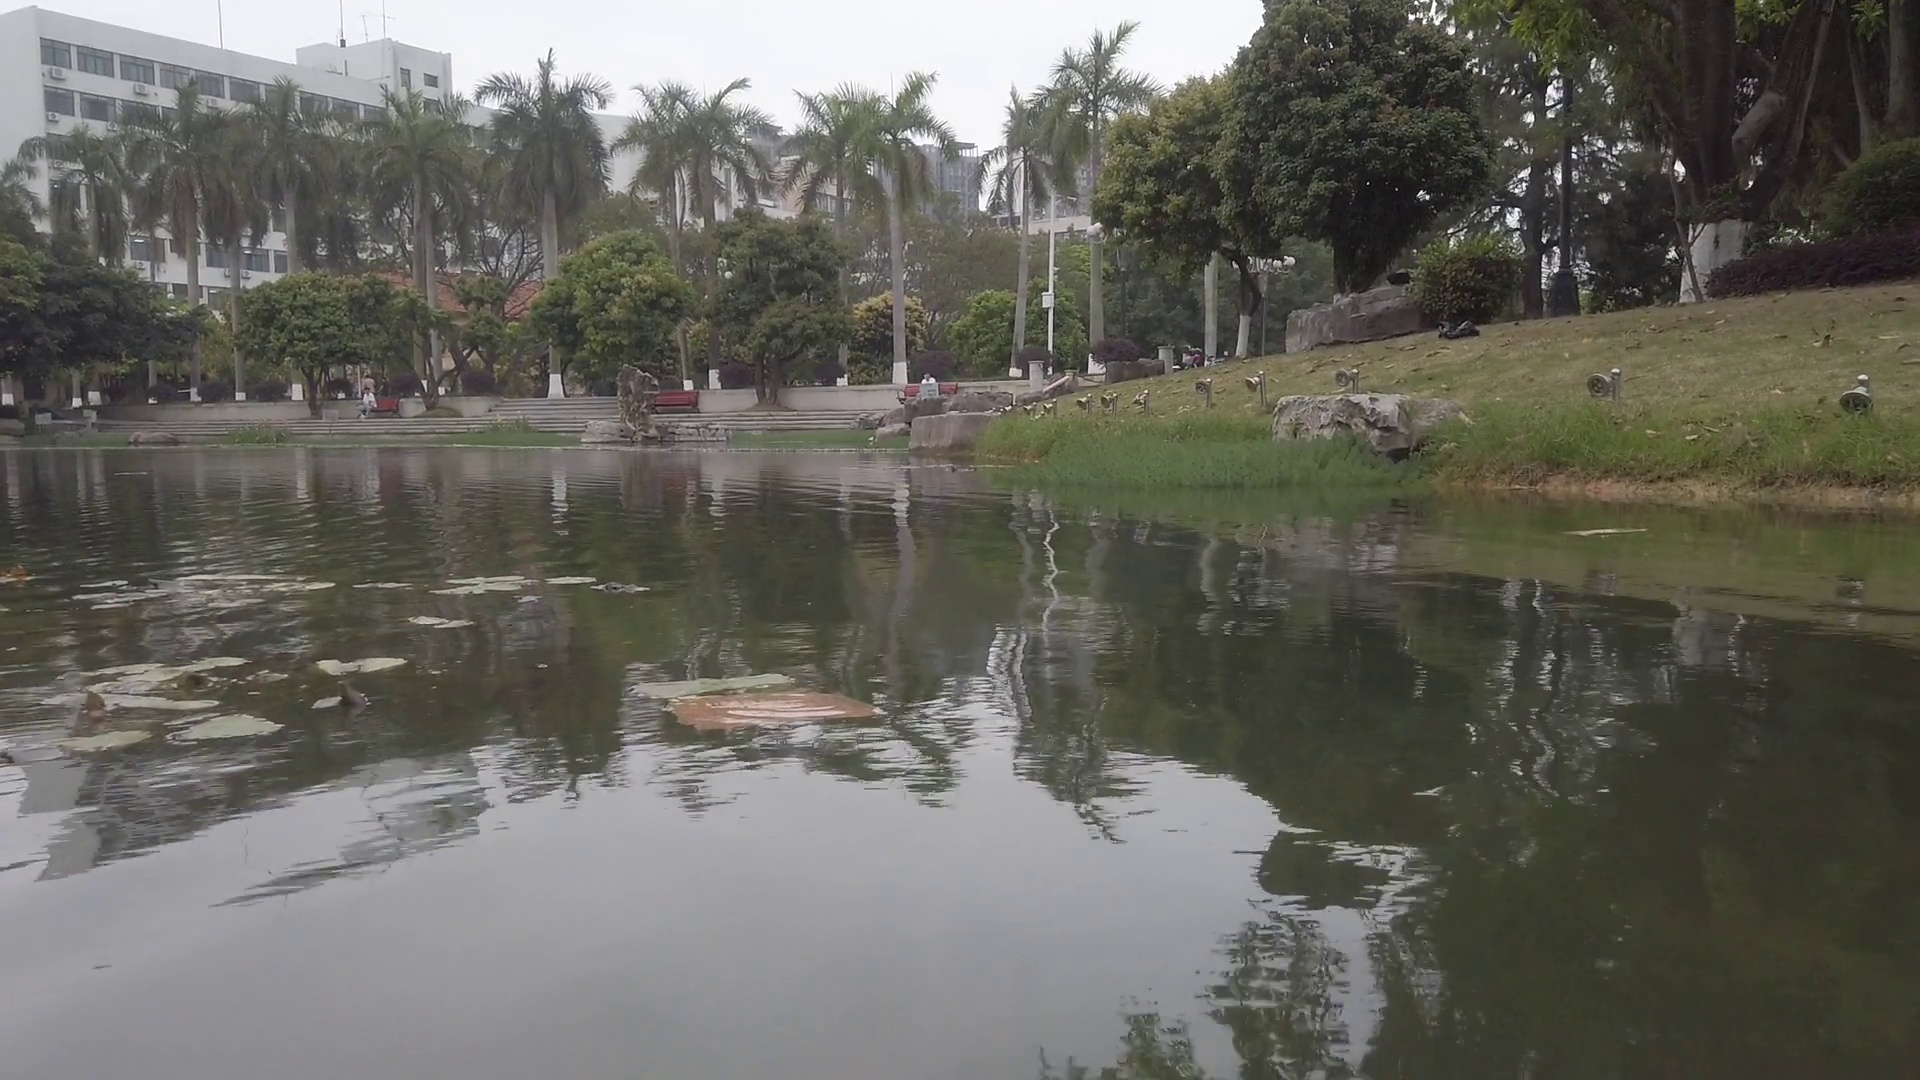paper: (670, 680, 886, 733), (1569, 522, 1644, 545)
